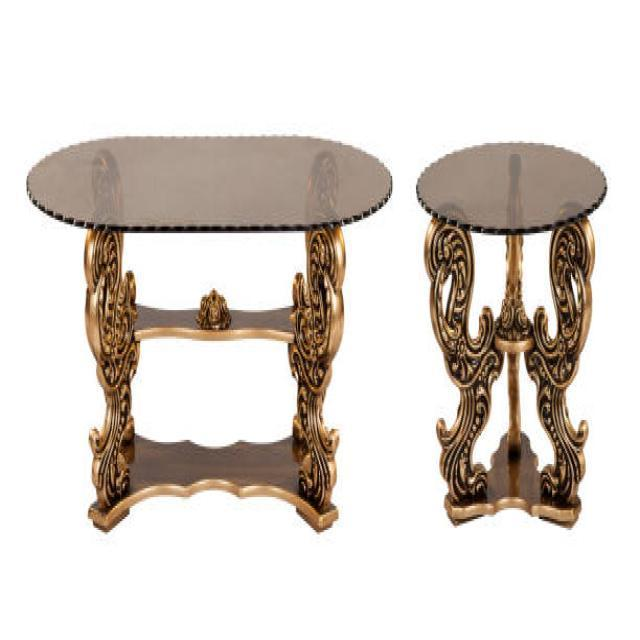table: (25, 132, 392, 534), (415, 138, 608, 528)
